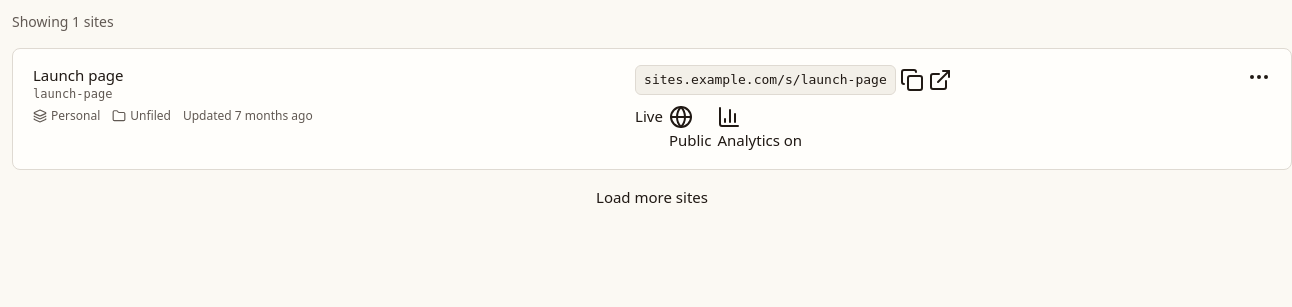
SiteList › loads the next page with the cursor
Click the button "Load more sites".
click(652, 197)  # box [596, 186, 708, 209]
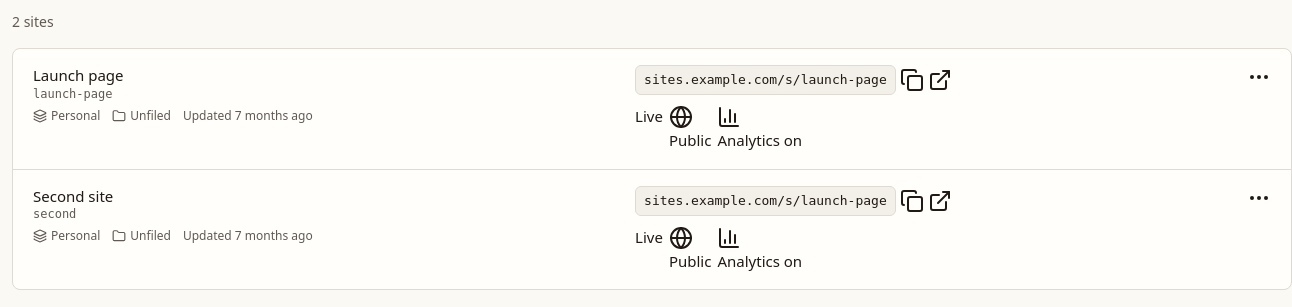
Result: the link "Second site" is shown at [33, 186, 113, 206]
Result: the button "Load more sites" is gone
